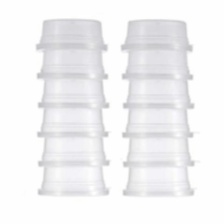plastic_box: (118, 130, 198, 170), (119, 100, 196, 140), (117, 17, 198, 55), (120, 163, 200, 201), (35, 162, 112, 201), (118, 47, 197, 83), (34, 104, 112, 139), (35, 134, 112, 169), (33, 16, 110, 51), (35, 46, 111, 81), (121, 75, 197, 110), (35, 76, 112, 110)
